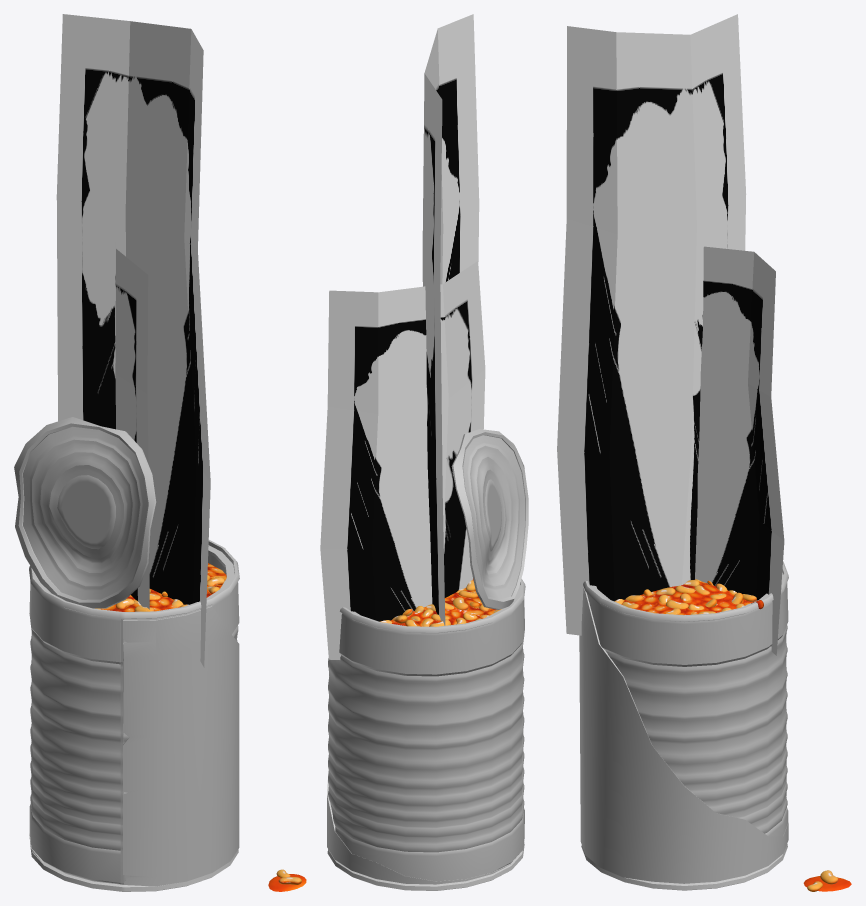
The model's file is beans.fbx.
3 views of the same model, side by side, from view 1: azimuth 30°, elevation 25°; view 2: azimuth 150°, elevation 25°; view 3: azimuth 270°, elevation 25° (orthographic). The views are drawn at different scales.
Visible parts, largest first — view 1: Plane.004, can_body_LOD0, can_top_LOD0, Plane.003, can_body_LOD0.001; view 2: can_body_LOD0, Plane.003, Plane.004, can_top_LOD0, can_body_LOD0.001; view 3: Plane.004, can_body_LOD0, Plane.003, can_body_LOD0.001.
Boxes of the visible parts, box(x1,y1,x2,y2) form: Plane.004: box(56, 14, 210, 667); can_body_LOD0: box(29, 540, 239, 891); can_top_LOD0: box(14, 417, 156, 608); Plane.003: box(115, 242, 149, 609); can_body_LOD0.001: box(101, 563, 226, 611); can_body_LOD0: box(327, 579, 525, 890); Plane.003: box(320, 261, 485, 659); Plane.004: box(422, 14, 479, 625); can_top_LOD0: box(451, 429, 528, 609); can_body_LOD0.001: box(390, 578, 495, 626); Plane.004: box(557, 14, 746, 635); can_body_LOD0: box(579, 561, 788, 890); Plane.003: box(695, 246, 784, 655); can_body_LOD0.001: box(621, 579, 756, 615).
Size of what is drawn, in the model's own units: 16.19 by 70.69 by 22.83.
